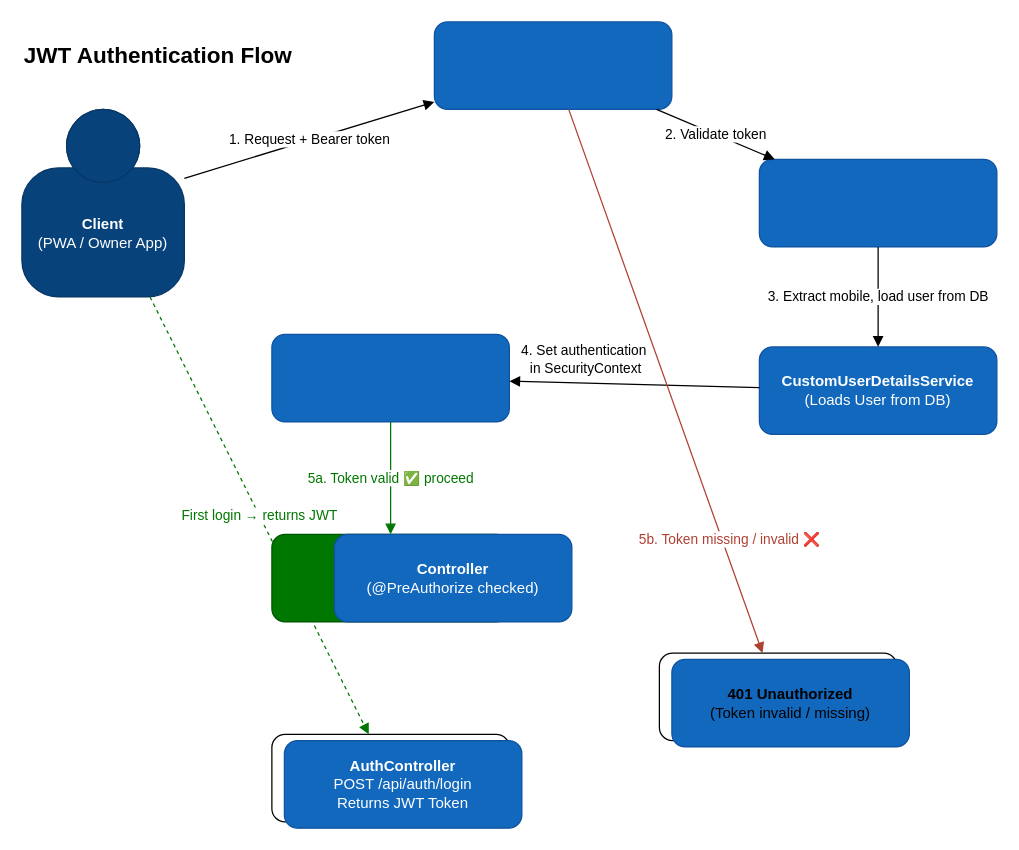
Some shapes in this 1019 by 850 pixel diagram are drawn without their labels. Each missing label, with the centre of its shape:
"JwtAuthFilter (OncePerRequestFilter)" goes at point 552,65.
"JwtUtil (Token Validator)" goes at point 877,202.
"SecurityContext (Spring Security)" goes at point 390,377.
